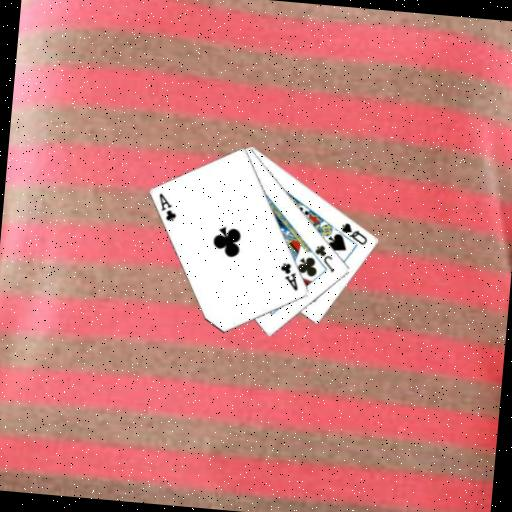AC: (154, 190, 180, 224), (276, 260, 302, 293)
JC: (311, 241, 339, 275)
QS: (337, 219, 371, 247)
